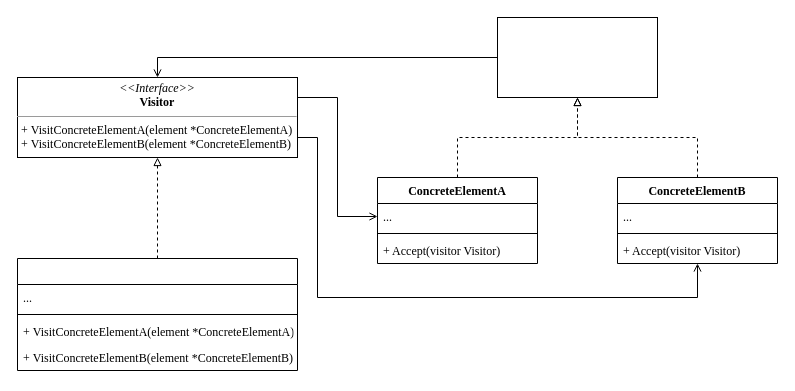
This 795x391 diagram has some shape labels left out. Each missing label, with the box of its shape:
<<Interface>> Element + Accept(visitor Visitor): (496, 16, 658, 98)
ConcreteVisitors: (16, 258, 298, 370)
